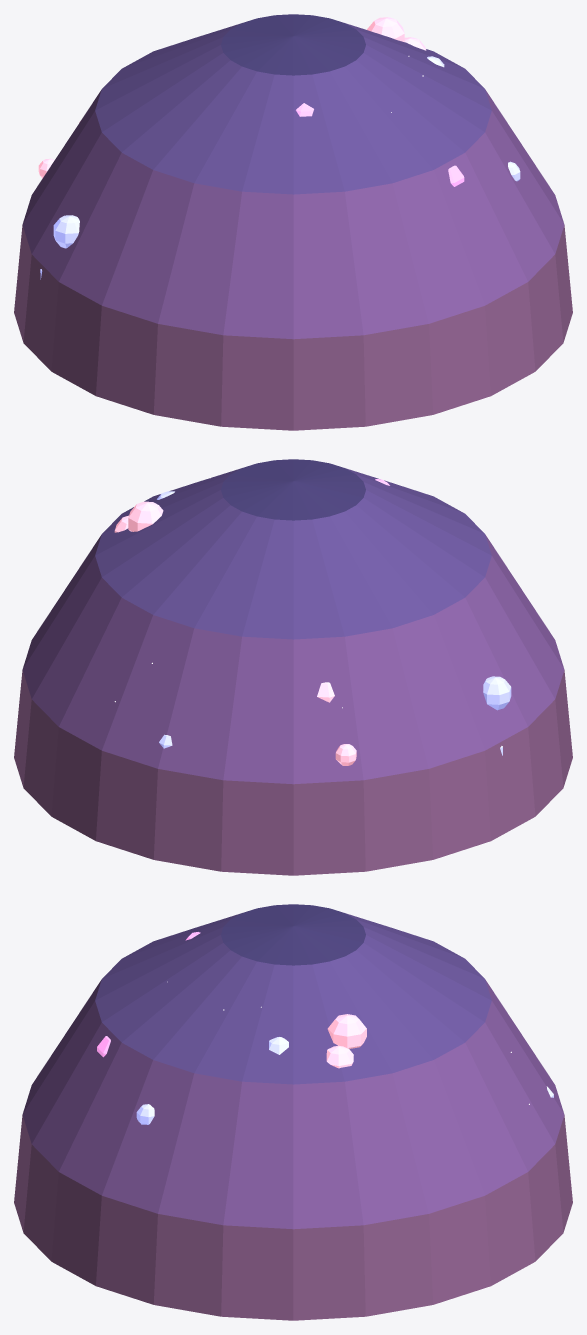
Rendered from sky_nebula_day.glb.
The picture shows the model from 3 angles, top to bottom: view 1: azimuth 30°, elevation 25°; view 2: azimuth 150°, elevation 25°; view 3: azimuth 270°, elevation 25°; orthographic projection.
Visible parts, largest first — view 1: skyband1, skyband0, skyband2, skyband3, cloud1, cloud2; view 2: skyband1, skyband0, skyband2, skyband3, cloud2, cloud1; view 3: skyband1, skyband0, skyband2, skyband3, cloud2, cloud1.
Boxes of the visible parts, x1,y1,x2,y2 form: skyband1: [22, 90, 564, 339]; skyband0: [14, 225, 572, 430]; skyband2: [95, 23, 491, 194]; skyband3: [221, 14, 365, 75]; cloud1: [40, 56, 520, 279]; cloud2: [38, 17, 426, 178]; skyband1: [22, 535, 564, 784]; skyband0: [14, 670, 572, 875]; skyband2: [95, 468, 491, 639]; skyband3: [221, 459, 365, 520]; cloud2: [114, 501, 356, 765]; cloud1: [157, 491, 511, 755]; skyband1: [22, 980, 564, 1229]; skyband0: [14, 1115, 572, 1320]; skyband2: [95, 913, 491, 1084]; skyband3: [221, 904, 365, 965]; cloud2: [326, 1014, 366, 1068]; cloud1: [136, 1037, 553, 1124].
Size of the model in its own units: 179 by 97.84 by 179.
